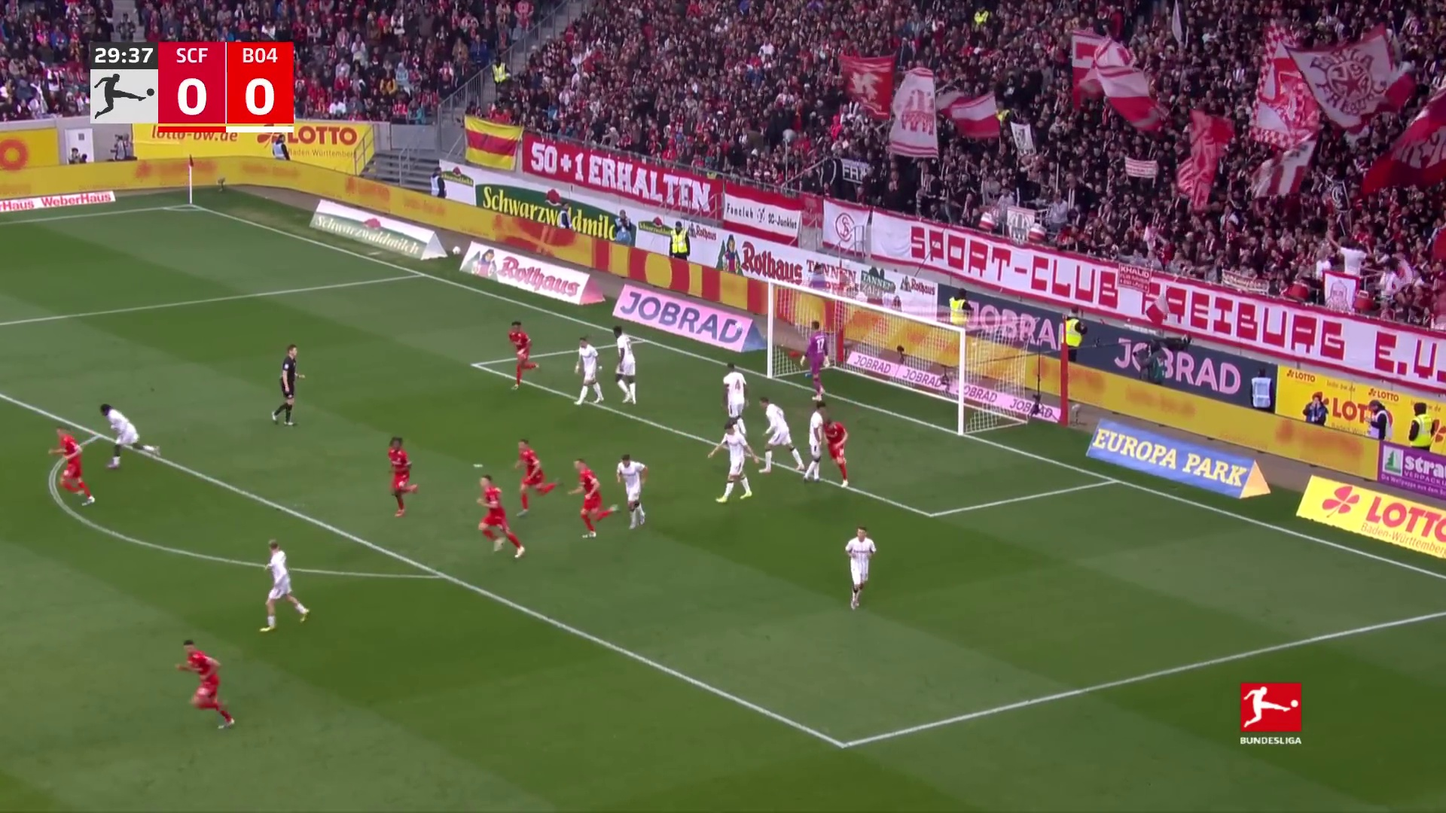ball: (734, 321, 743, 330)
player: (173, 638, 239, 732), (255, 538, 312, 635), (471, 473, 527, 560), (44, 424, 100, 509), (97, 401, 163, 472), (566, 456, 619, 541), (707, 421, 759, 505), (509, 438, 559, 518), (757, 396, 805, 477), (382, 435, 423, 519), (841, 525, 880, 612), (613, 452, 652, 530), (503, 320, 543, 391), (608, 324, 643, 404), (569, 335, 607, 408), (799, 319, 832, 402), (820, 413, 853, 489), (718, 362, 751, 436), (801, 401, 828, 484)
referee: (267, 342, 309, 429)
